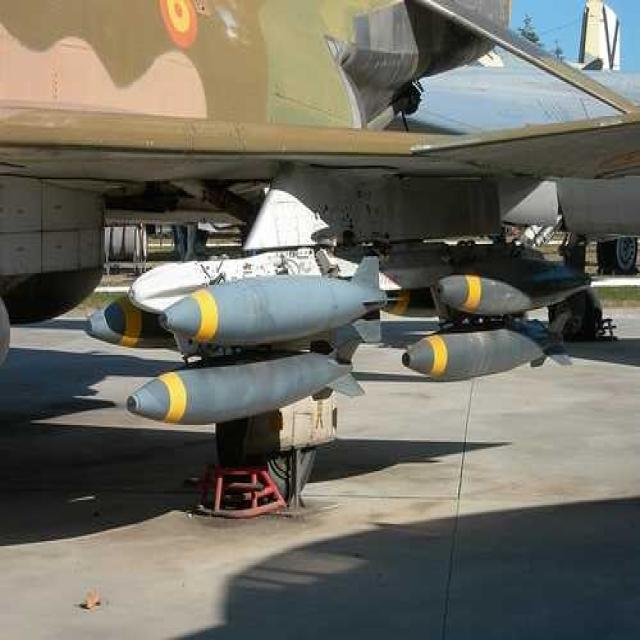missile: (158, 265, 391, 349), (120, 343, 367, 414), (426, 259, 606, 323), (402, 324, 572, 384)
